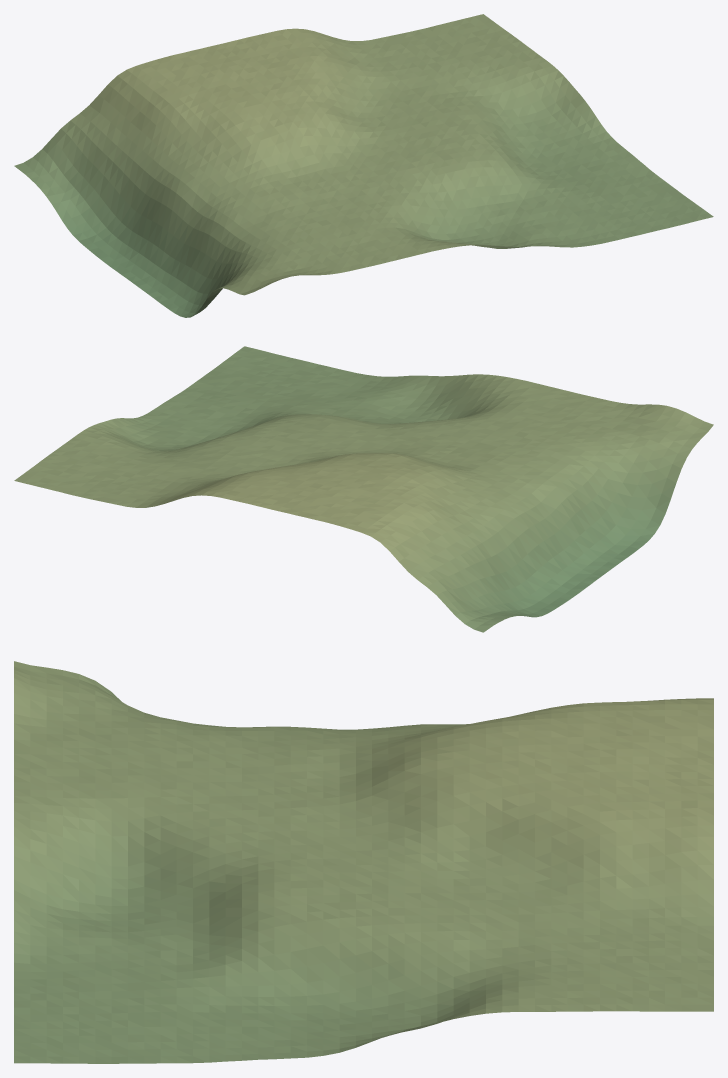
The model's file is Terrain_0_0.glb.
3 views of the same model, one above another, from view 1: azimuth 30°, elevation 25°; view 2: azimuth 150°, elevation 25°; view 3: azimuth 270°, elevation 25° (orthographic). The views are drawn at different scales.
Visible parts, largest first — view 1: Terrain_0_0; view 2: Terrain_0_0; view 3: Terrain_0_0.
Boxes of the visible parts, x1,y1,x2,y2 form: Terrain_0_0: [14, 14, 713, 317]; Terrain_0_0: [14, 346, 713, 632]; Terrain_0_0: [14, 661, 713, 1063].
Bounding box in the file's own units: 288 × 60.6 × 245.
